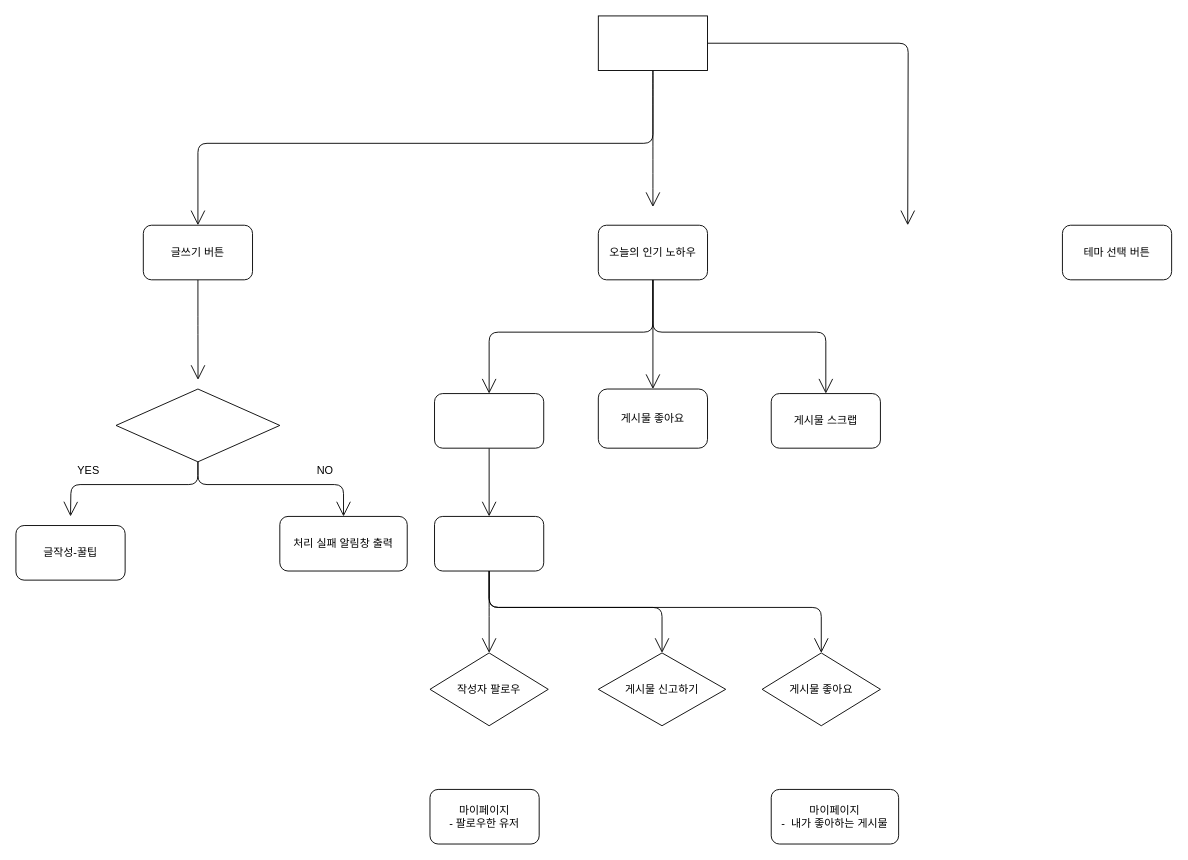
Image size: 1188x860. Some labels were removed from this diagram. The box of each missing label's shape, as (x1, y1, x2, y2) in pixels:
게시물 클릭: (434, 393, 544, 448)
꿀팁 게시물: (434, 516, 544, 571)
유효성 체크 (제목 길이 제한, 이미지 최대 크기 제한): (115, 388, 280, 462)
자취꿀팁 메인페이지: (597, 15, 708, 71)
